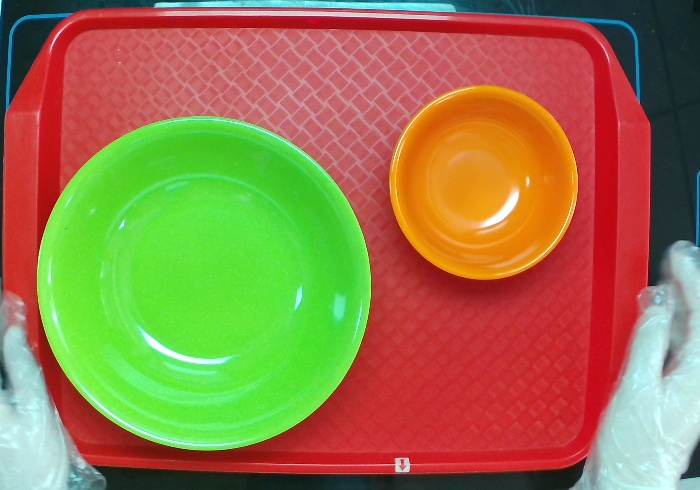YKMZ-Ju_Se_Yuan_Wan: (389, 80, 581, 281)
YKMZ-Lv_Se_Tang_Wan: (36, 113, 372, 451)
